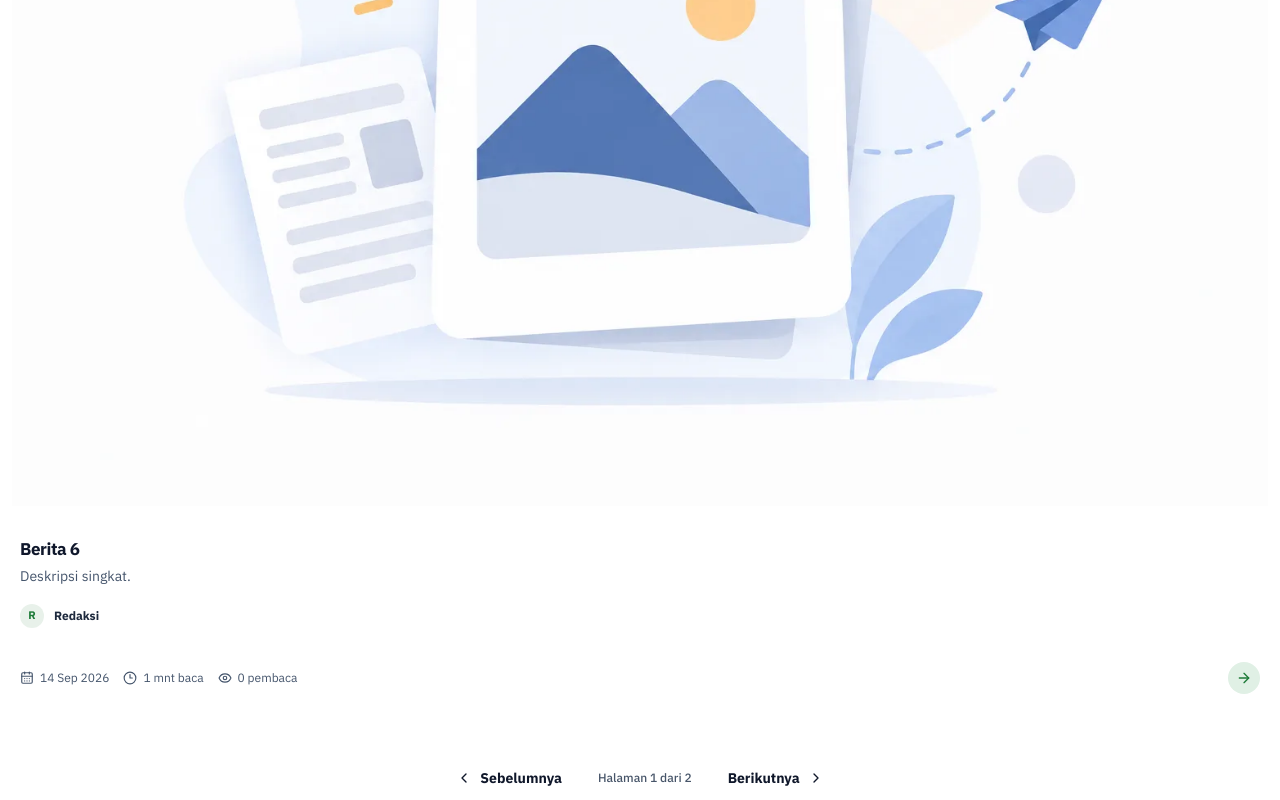
Test: GreenMinimalArchivePager › berpindah halaman dengan sebelumnya dan berikutnya
(page scrolled)
Check: the button "Sebelumnya" is disabled, box 432,756 -> 586,799
Click the button "Berikutnya": (776, 778) 704,756 -> 848,799
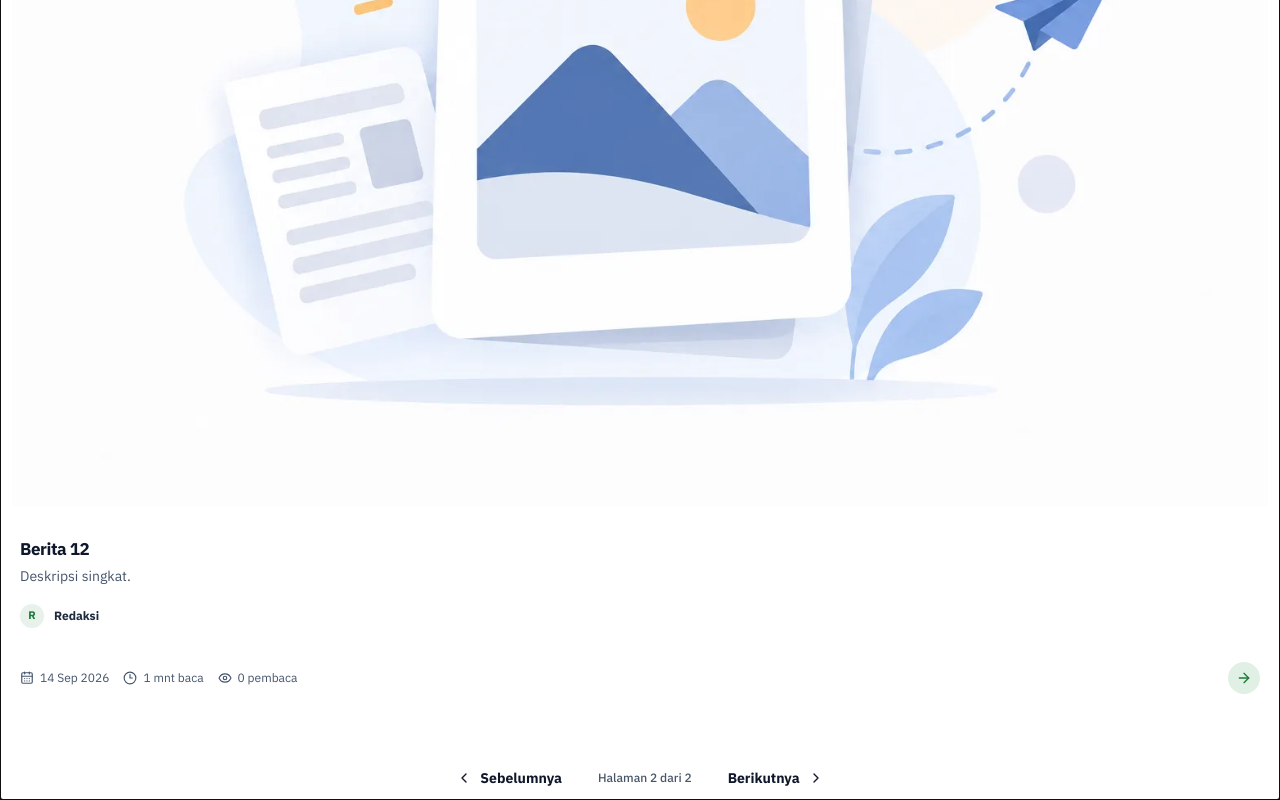
Check: the text "Halaman 2 dari 2" is shown, box 598,770 -> 692,786
Check: the link "Berita 12" is shown, box 20,538 -> 89,560
Click the button "Sebelumnya": (509, 778) 432,756 -> 586,799
(page scrolled)
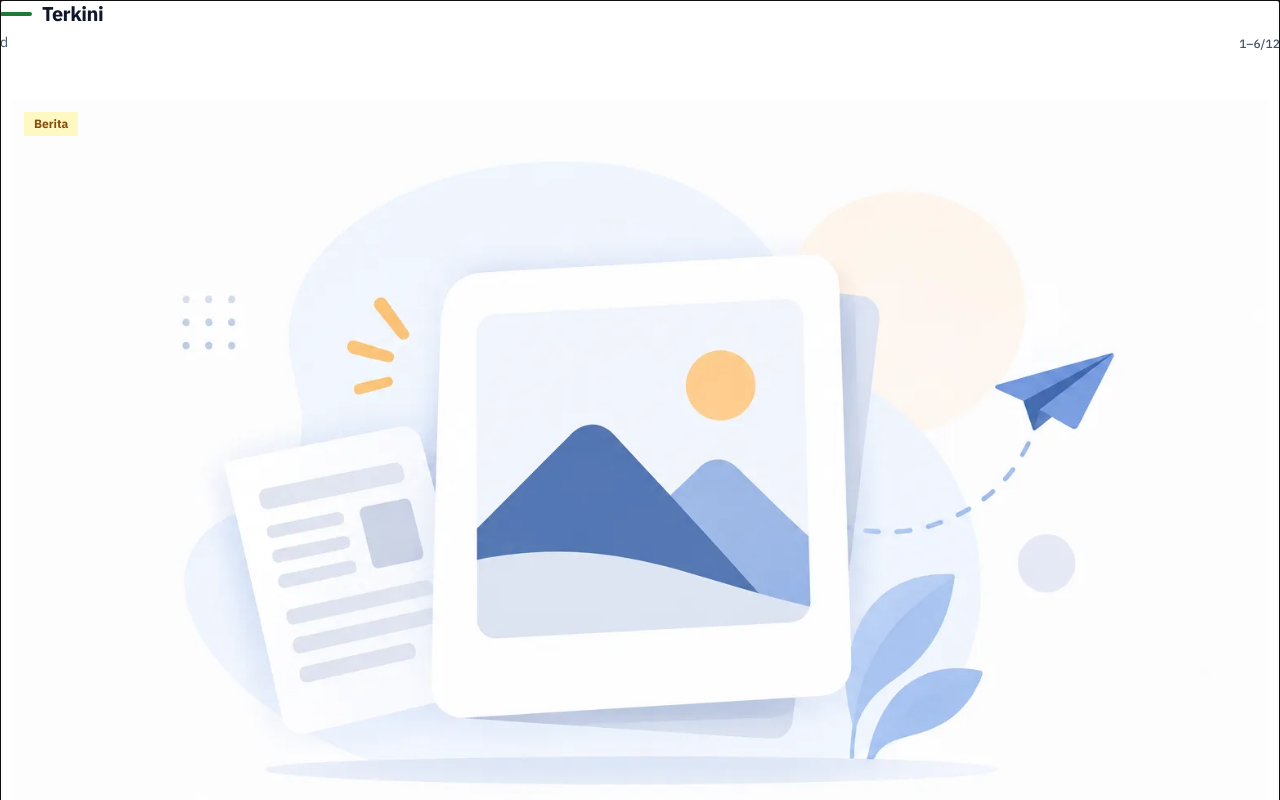
Check: the message reads "1–6/12", box 1239,36 -> 1279,52
